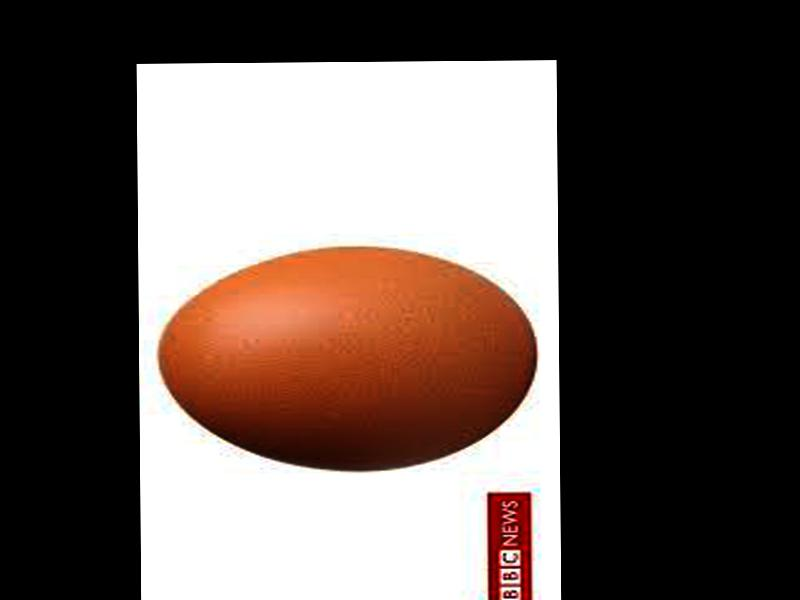Eggs: (161, 244, 535, 472)
